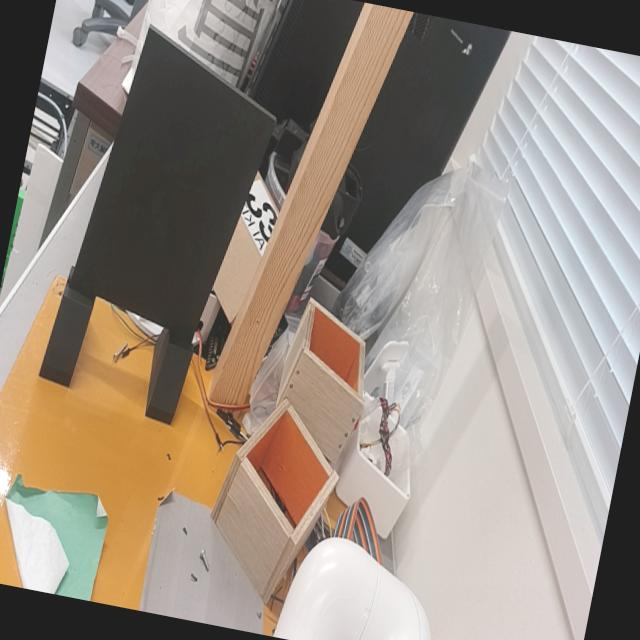Wall: (74, 27, 277, 338)
